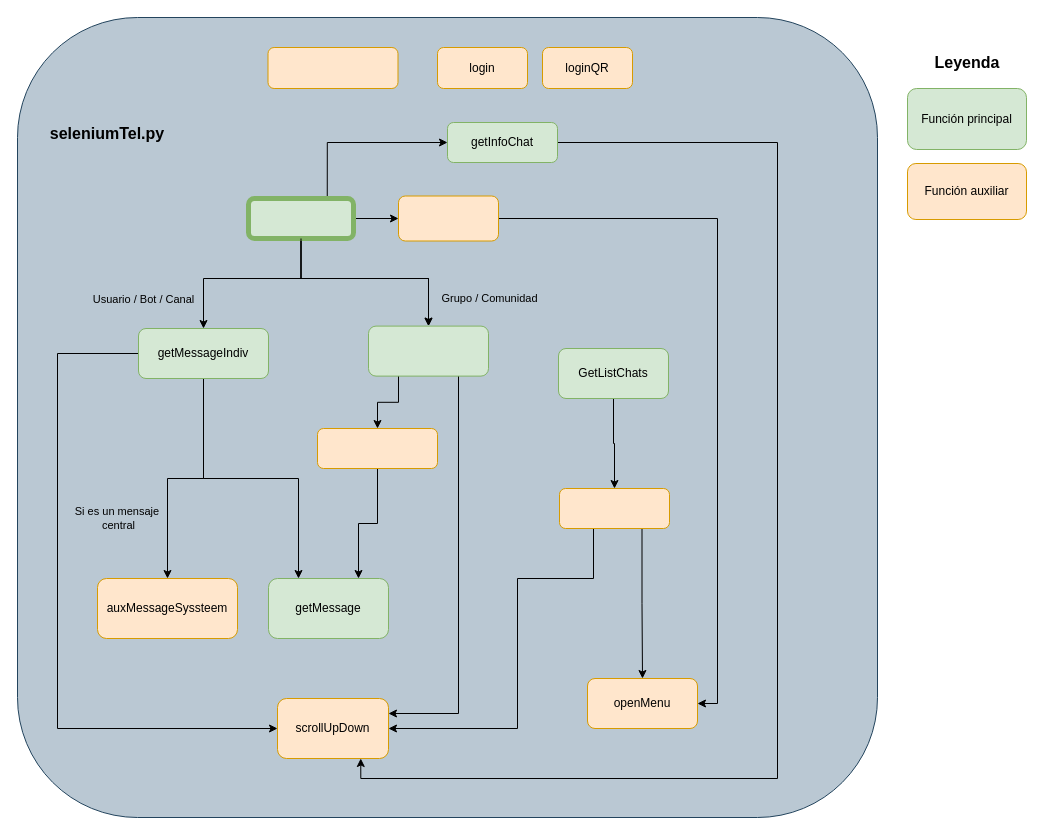
The diagram is 1044 pixels wide and 835 high, and some of its shapes have lost their labels. Here are the shapes that lost their labels. From the top down, the box of each, then its label:
(267, 46, 398, 88): newDriverChrome
(246, 196, 356, 240): getInfo
(398, 195, 498, 241): selectChat
(368, 325, 488, 376): getMessageGroup
(316, 428, 438, 468): auxSender
(558, 488, 670, 528): auxChats
